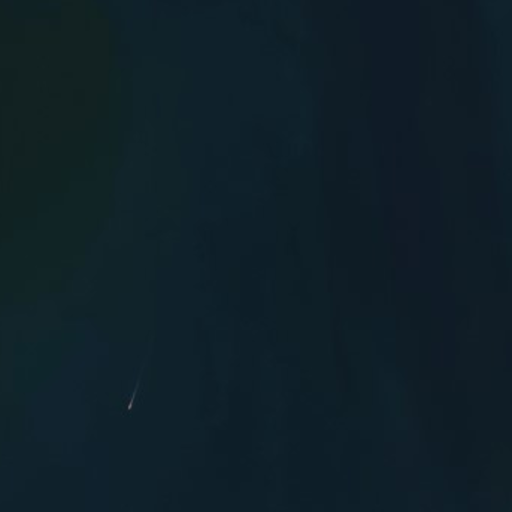ship: (125, 401, 135, 413)
